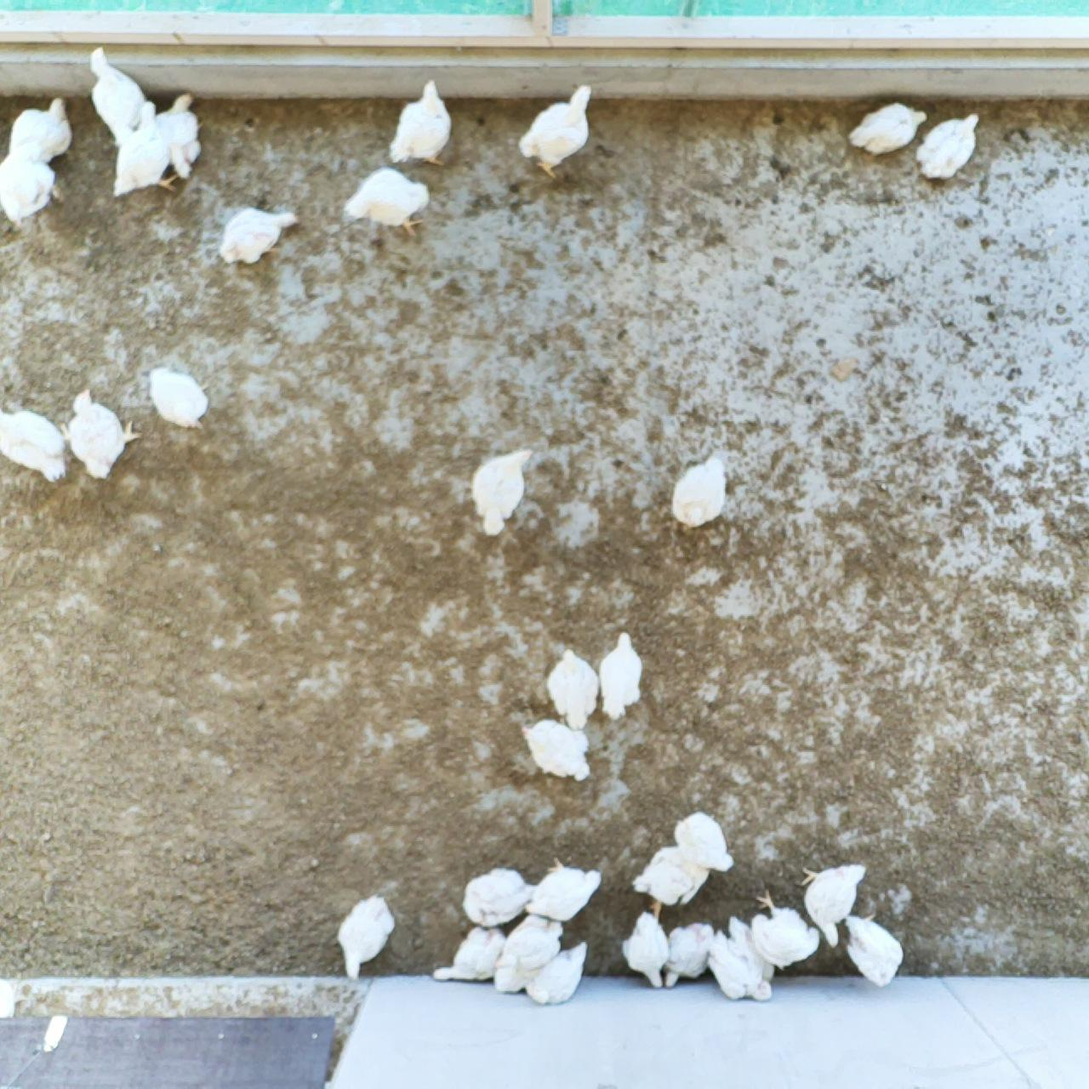chicken: (55, 382, 147, 483), (516, 80, 601, 182), (461, 445, 539, 541), (110, 97, 181, 202), (341, 163, 435, 240), (386, 76, 459, 171), (796, 857, 869, 951), (747, 889, 825, 974), (84, 42, 148, 144), (213, 198, 304, 267), (333, 890, 397, 986), (521, 855, 605, 925), (838, 908, 908, 991), (702, 927, 776, 1004), (0, 94, 78, 167), (631, 842, 713, 910), (0, 403, 66, 487), (542, 649, 606, 735), (591, 628, 648, 723), (844, 97, 929, 160), (0, 138, 60, 226), (430, 920, 507, 988), (618, 895, 672, 991), (456, 864, 537, 928), (914, 110, 982, 185), (147, 357, 215, 430), (490, 908, 564, 974), (668, 453, 729, 533), (523, 938, 590, 1010), (157, 91, 206, 186), (671, 808, 737, 875), (661, 919, 717, 996), (721, 911, 777, 978), (491, 962, 542, 1001)
